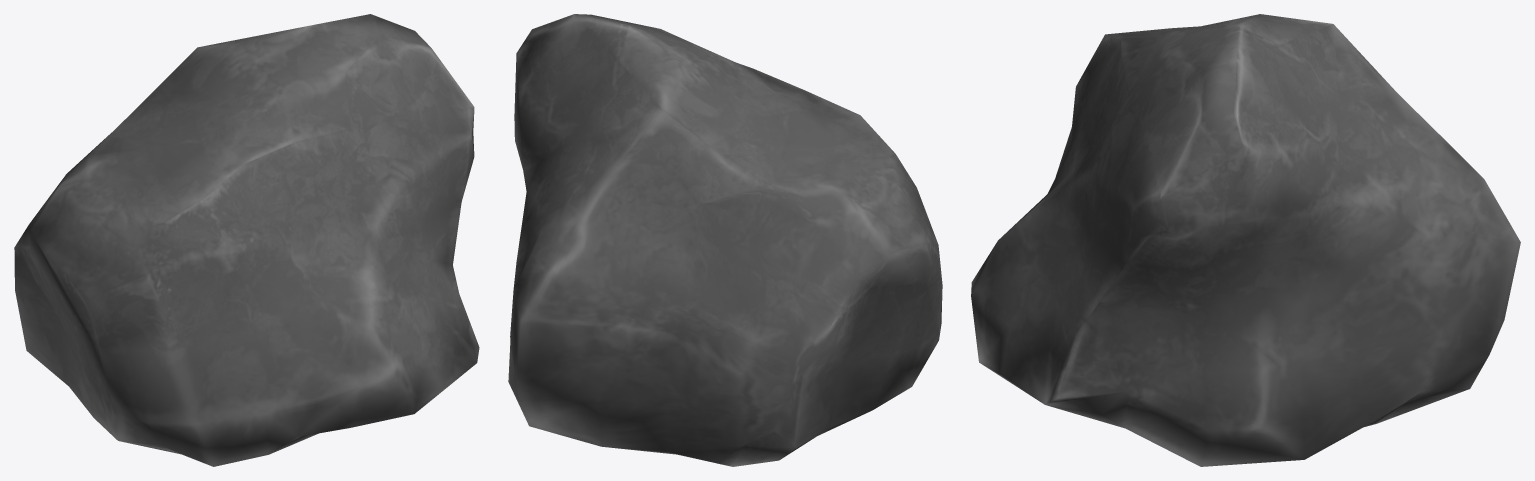
File: ENV2110029.fbx
The picture shows the model from 3 angles, left to right: view 1: azimuth 30°, elevation 25°; view 2: azimuth 150°, elevation 25°; view 3: azimuth 270°, elevation 25°; orthographic projection. The views are drawn at different scales.
Visible parts, largest first — view 1: smENV2110029; view 2: smENV2110029; view 3: smENV2110029.
Boxes of the visible parts, x1,y1,x2,y2 form: smENV2110029: [14, 14, 479, 466]; smENV2110029: [508, 14, 942, 466]; smENV2110029: [971, 14, 1520, 466].
Size of the model in its own units: 126 by 106 by 129.
Materials: 1 (1 with a texture image).
